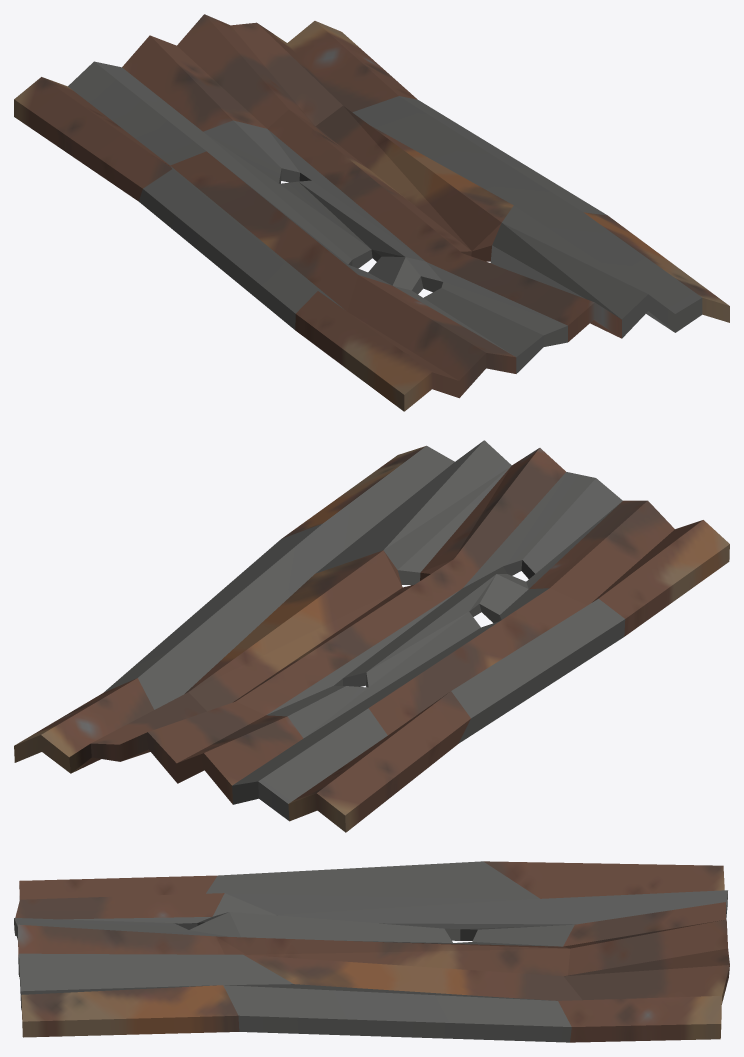
File: SM_Prop_Iron_Sheet_04.obj
The picture shows the model from 3 angles, top to bottom: view 1: azimuth 30°, elevation 25°; view 2: azimuth 150°, elevation 25°; view 3: azimuth 270°, elevation 25°; orthographic projection. The views are drawn at different scales.
Visible parts, largest first — view 1: SM_Prop_Iron_Sheet_04_0; view 2: SM_Prop_Iron_Sheet_04_0; view 3: SM_Prop_Iron_Sheet_04_0.
Part boxes in pixels (x1,y1,x2,y2): SM_Prop_Iron_Sheet_04_0: (14, 14, 729, 411); SM_Prop_Iron_Sheet_04_0: (14, 440, 729, 832); SM_Prop_Iron_Sheet_04_0: (14, 861, 729, 1042).
Size of the model in its own units: 0.8868 by 0.1916 by 1.81.
Materials: 1 (1 with a texture image).
